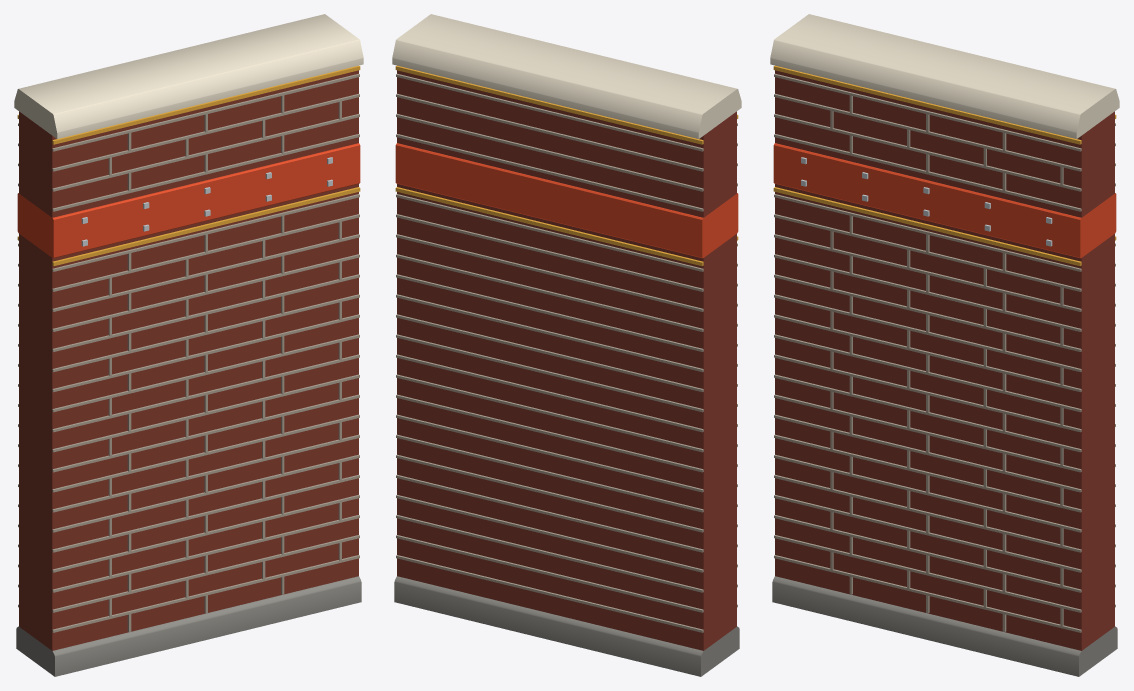
File: Lobby_StoreWallPlain.fbx
3 views of the same model, side by side, from view 1: azimuth 30°, elevation 25°; view 2: azimuth 150°, elevation 25°; view 3: azimuth 330°, elevation 25° (orthographic).
Parts seen in each view (by area): view 1: Brick, Mortar, Cream, Header, Plinth, Pinstripe; view 2: Brick, Mortar, Cream, Header, Plinth, Pinstripe; view 3: Brick, Mortar, Cream, Header, Plinth, Pinstripe.
Boxes of the visible parts, bbox=[...] form: Brick: bbox=[19, 70, 358, 650]; Mortar: bbox=[18, 73, 359, 632]; Cream: bbox=[14, 14, 363, 138]; Header: bbox=[17, 143, 360, 258]; Plinth: bbox=[16, 576, 361, 676]; Pinstripe: bbox=[17, 65, 360, 266]; Brick: bbox=[397, 70, 736, 650]; Mortar: bbox=[396, 73, 737, 632]; Cream: bbox=[392, 14, 741, 138]; Header: bbox=[395, 143, 738, 258]; Plinth: bbox=[394, 576, 739, 676]; Pinstripe: bbox=[395, 65, 738, 266]; Brick: bbox=[775, 70, 1114, 650]; Mortar: bbox=[774, 73, 1115, 632]; Cream: bbox=[770, 14, 1119, 138]; Header: bbox=[773, 143, 1116, 258]; Plinth: bbox=[772, 576, 1117, 676]; Pinstripe: bbox=[773, 65, 1116, 266].
Bounding box in the file's own units: 800 × 1400 × 194.
